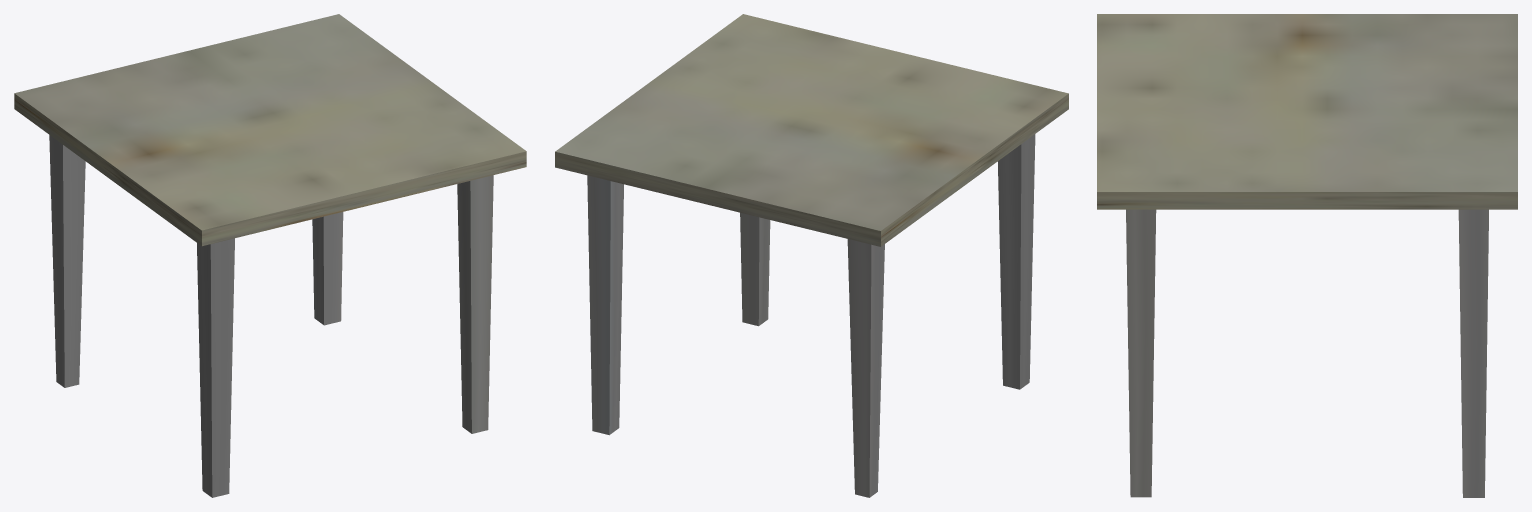
The model's file is Table.fbx.
3 renders of one model, left to right at view 1: azimuth 30°, elevation 25°; view 2: azimuth 150°, elevation 25°; view 3: azimuth 270°, elevation 25°, orthographic. The views are drawn at different scales.
Visible parts, largest first — view 1: Table; view 2: Table; view 3: Table.
Part boxes in pixels (left/top/right/bottom): Table: left=14, top=14, right=526, bottom=497; Table: left=555, top=14, right=1068, bottom=497; Table: left=1097, top=14, right=1517, bottom=497.
Bounding box in the file's own units: 97.07 × 97.07 × 81.07.
